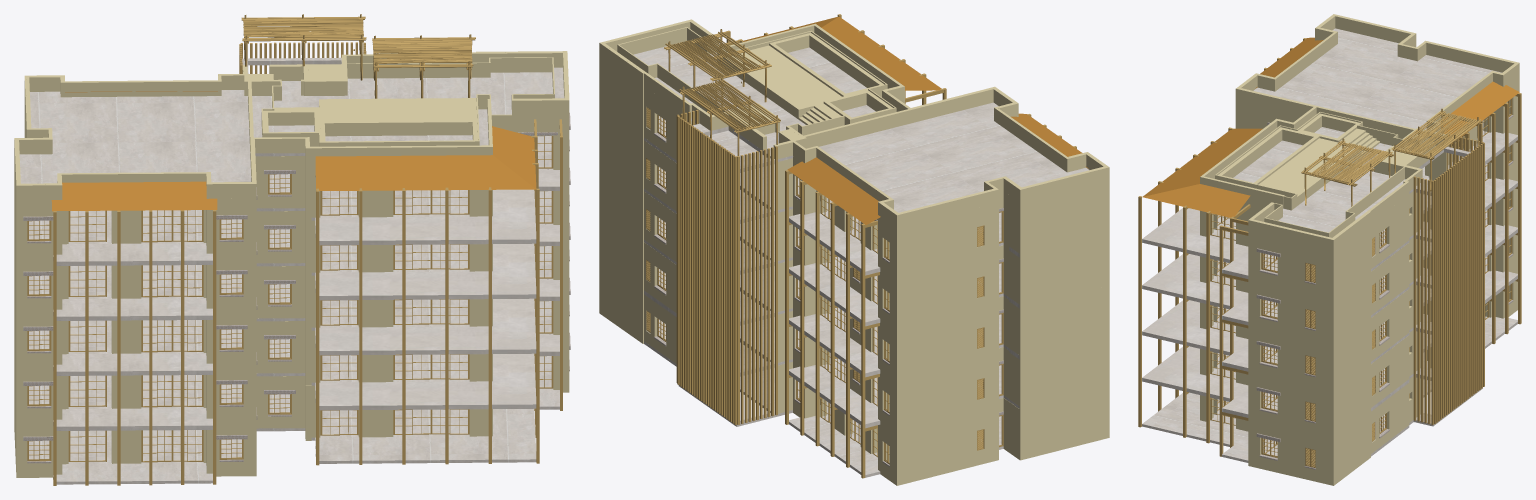
Rendered from Residencial02.glb.
3 renders of one model, left to right at view 1: azimuth 30°, elevation 25°; view 2: azimuth 150°, elevation 25°; view 3: azimuth 270°, elevation 25°, orthographic. The views are drawn at different scales.
Parts seen in each view (by area): view 1: R02_Floorplates, R02_Wall, R02_Fachada, R02_Cancel, R02_Teja, R02_Cornisa, R02_Celosia; view 2: R02_Wall, R02_Floorplates, R02_Celosia, R02_Fachada, R02_Teja, R02_Cancel, R02_Cornisa; view 3: R02_Wall, R02_Floorplates, R02_Celosia, R02_Fachada, R02_Teja, R02_Cancel, R02_Cornisa.
Part boxes in pixels (x1,y1,x2,y2): R02_Floorplates: [19, 57, 564, 484]; R02_Wall: [14, 51, 569, 477]; R02_Fachada: [53, 14, 562, 485]; R02_Cancel: [27, 136, 553, 462]; R02_Teja: [51, 91, 536, 211]; R02_Cornisa: [23, 112, 570, 463]; R02_Celosia: [239, 42, 366, 73]; R02_Wall: [599, 19, 1109, 485]; R02_Floorplates: [633, 43, 1089, 477]; R02_Celosia: [676, 109, 777, 424]; R02_Fachada: [646, 14, 1076, 478]; R02_Teja: [743, 16, 1088, 224]; R02_Cancel: [657, 115, 1003, 464]; R02_Cornisa: [654, 132, 1003, 466]; R02_Wall: [1200, 14, 1519, 485]; R02_Floorplates: [1142, 28, 1517, 462]; R02_Celosia: [1413, 134, 1484, 424]; R02_Fachada: [1138, 38, 1521, 467]; R02_Teja: [1142, 37, 1519, 217]; R02_Cancel: [1210, 98, 1512, 457]; R02_Cornisa: [1256, 114, 1513, 469].
Bounding box in the file's own units: 39.84 × 22.36 × 28.54.
Materials: 5 (2 with a texture image).
